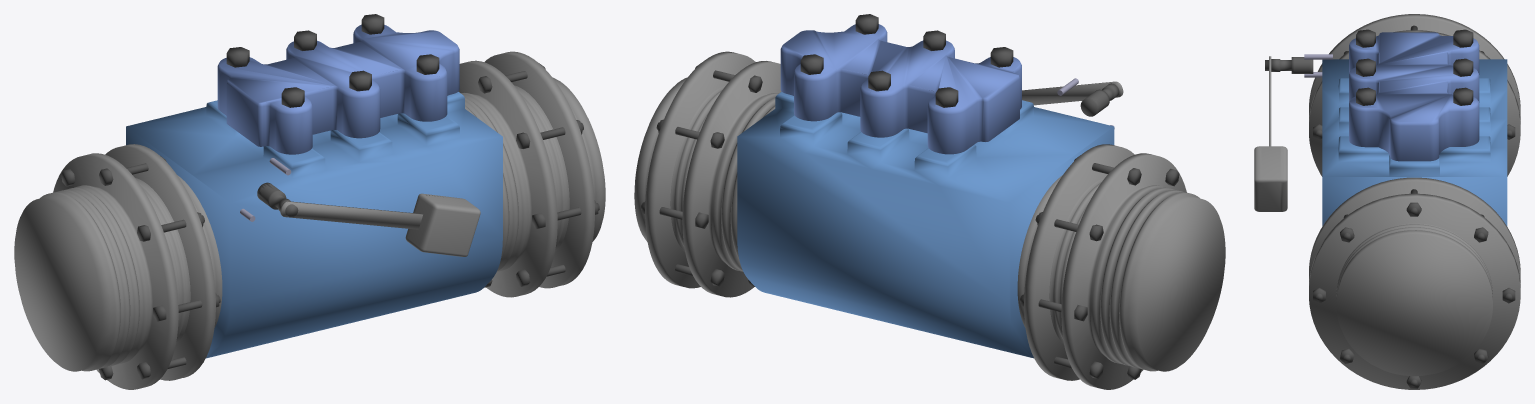
The model's file is lobe-pump.glb.
The picture shows the model from 3 angles, left to right: view 1: azimuth 30°, elevation 25°; view 2: azimuth 150°, elevation 25°; view 3: azimuth 270°, elevation 25°; orthographic projection. The views are drawn at different scales.
Visible parts, largest first — view 1: Obj3d66-1060089-4866-180, Obj3d66-1060089-4868-740, Obj3d66-1060089-4875-534, Obj3d66-1060089-4867-949, Obj3d66-1060089-4880-985, Obj3d66-1060089-4884-97, Obj3d66-1060089-4883-700, Obj3d66-1060089-4881-192, Obj3d66-1060089-4882-174; view 2: Obj3d66-1060089-4866-180, Obj3d66-1060089-4868-740, Obj3d66-1060089-4875-534, Obj3d66-1060089-4867-949, Obj3d66-1060089-4883-700, Obj3d66-1060089-4881-192, Obj3d66-1060089-4884-97, Obj3d66-1060089-4882-174; view 3: Obj3d66-1060089-4875-534, Obj3d66-1060089-4867-949, Obj3d66-1060089-4866-180, Obj3d66-1060089-4868-740, Obj3d66-1060089-4880-985, Obj3d66-1060089-4881-192, Obj3d66-1060089-4882-174, Obj3d66-1060089-4878-64, Obj3d66-1060089-4879-301, Obj3d66-1060089-4877-443, Obj3d66-1060089-4871-767, Obj3d66-1060089-4872-708 (+3 smaller).
Part boxes in pixels (left/top/right/bottom): Obj3d66-1060089-4866-180: left=126, top=92, right=502, bottom=358; Obj3d66-1060089-4868-740: left=14, top=144, right=222, bottom=389; Obj3d66-1060089-4875-534: left=458, top=51, right=605, bottom=297; Obj3d66-1060089-4867-949: left=217, top=24, right=459, bottom=154; Obj3d66-1060089-4880-985: left=405, top=193, right=480, bottom=256; Obj3d66-1060089-4884-97: left=280, top=201, right=422, bottom=229; Obj3d66-1060089-4883-700: left=61, top=156, right=220, bottom=380; Obj3d66-1060089-4881-192: left=478, top=63, right=599, bottom=287; Obj3d66-1060089-4882-174: left=257, top=182, right=298, bottom=217; Obj3d66-1060089-4866-180: left=737, top=91, right=1114, bottom=358; Obj3d66-1060089-4868-740: left=1017, top=144, right=1225, bottom=389; Obj3d66-1060089-4875-534: left=634, top=51, right=781, bottom=297; Obj3d66-1060089-4867-949: left=780, top=24, right=1021, bottom=154; Obj3d66-1060089-4883-700: left=1020, top=155, right=1179, bottom=379; Obj3d66-1060089-4881-192: left=641, top=63, right=762, bottom=286; Obj3d66-1060089-4884-97: left=1022, top=81, right=1123, bottom=105; Obj3d66-1060089-4882-174: left=1080, top=83, right=1119, bottom=116; Obj3d66-1060089-4875-534: left=1309, top=177, right=1520, bottom=389; Obj3d66-1060089-4867-949: left=1349, top=32, right=1479, bottom=161; Obj3d66-1060089-4866-180: left=1322, top=59, right=1507, bottom=226; Obj3d66-1060089-4868-740: left=1309, top=14, right=1520, bottom=176; Obj3d66-1060089-4880-985: left=1254, top=146, right=1287, bottom=211; Obj3d66-1060089-4881-192: left=1313, top=189, right=1515, bottom=388; Obj3d66-1060089-4882-174: left=1265, top=57, right=1313, bottom=73; Obj3d66-1060089-4878-64: left=1453, top=58, right=1473, bottom=76; Obj3d66-1060089-4879-301: left=1453, top=29, right=1473, bottom=47; Obj3d66-1060089-4877-443: left=1453, top=87, right=1473, bottom=105; Obj3d66-1060089-4871-767: left=1356, top=29, right=1375, bottom=47; Obj3d66-1060089-4872-708: left=1356, top=87, right=1375, bottom=105.
Size of the model in its own units: 4284 by 2210 by 2225.
